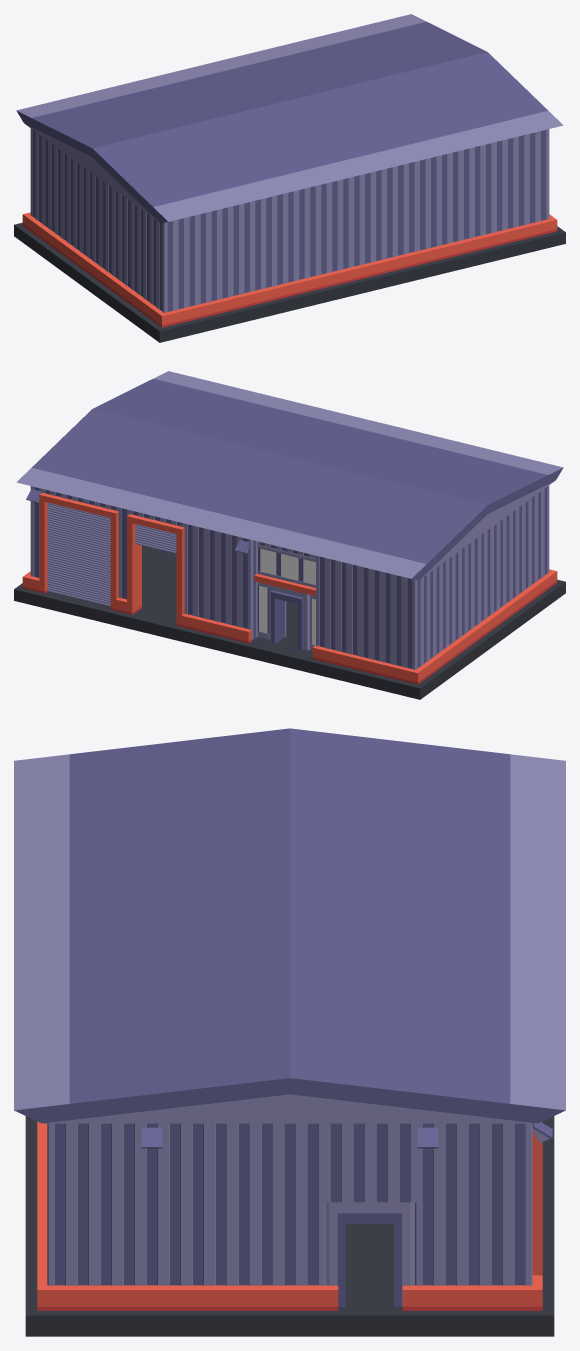
Rendered from Warehouse.fbx.
3 renders of one model, top to bottom at view 1: azimuth 30°, elevation 25°; view 2: azimuth 150°, elevation 25°; view 3: azimuth 270°, elevation 25°, orthographic. The views are drawn at different scales.
Visible parts, largest first — view 1: mergedBlocks; view 2: mergedBlocks; view 3: mergedBlocks.
Boxes of the visible parts, box(x1,y1,x2,y2) form: mergedBlocks: box(14, 14, 565, 342); mergedBlocks: box(14, 371, 565, 699); mergedBlocks: box(14, 728, 565, 1336).
Bounding box in the file's own units: 370 × 122 × 240.
